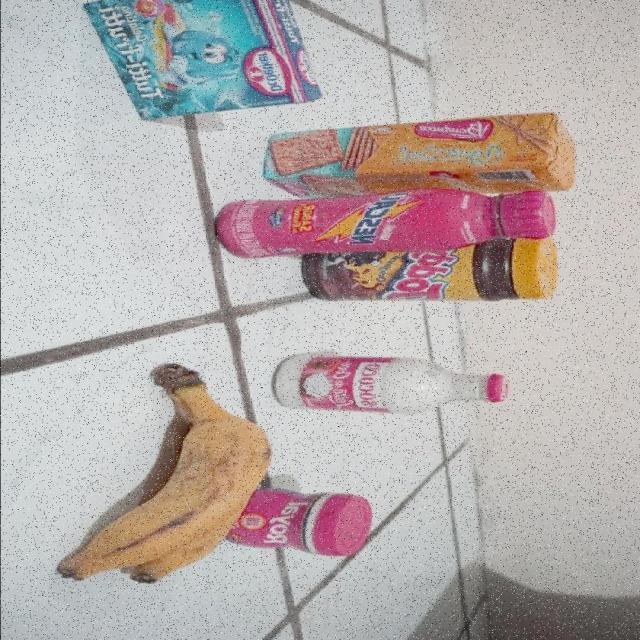Banana: (54, 363, 274, 592)
ChocolateMilk: (215, 192, 555, 252)
ChocolatePowder: (301, 253, 562, 305)
CoconutMilk: (277, 353, 514, 414)
Cracker: (261, 115, 579, 192)
Gelatine: (70, 0, 321, 116)
Yeast: (248, 486, 369, 558)
